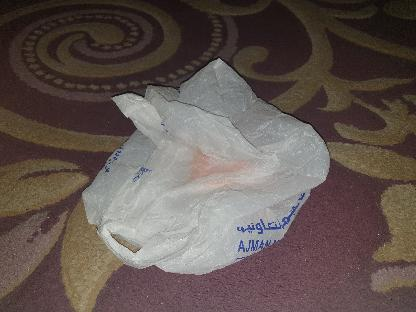Plastic Bag: (82, 58, 332, 274)
